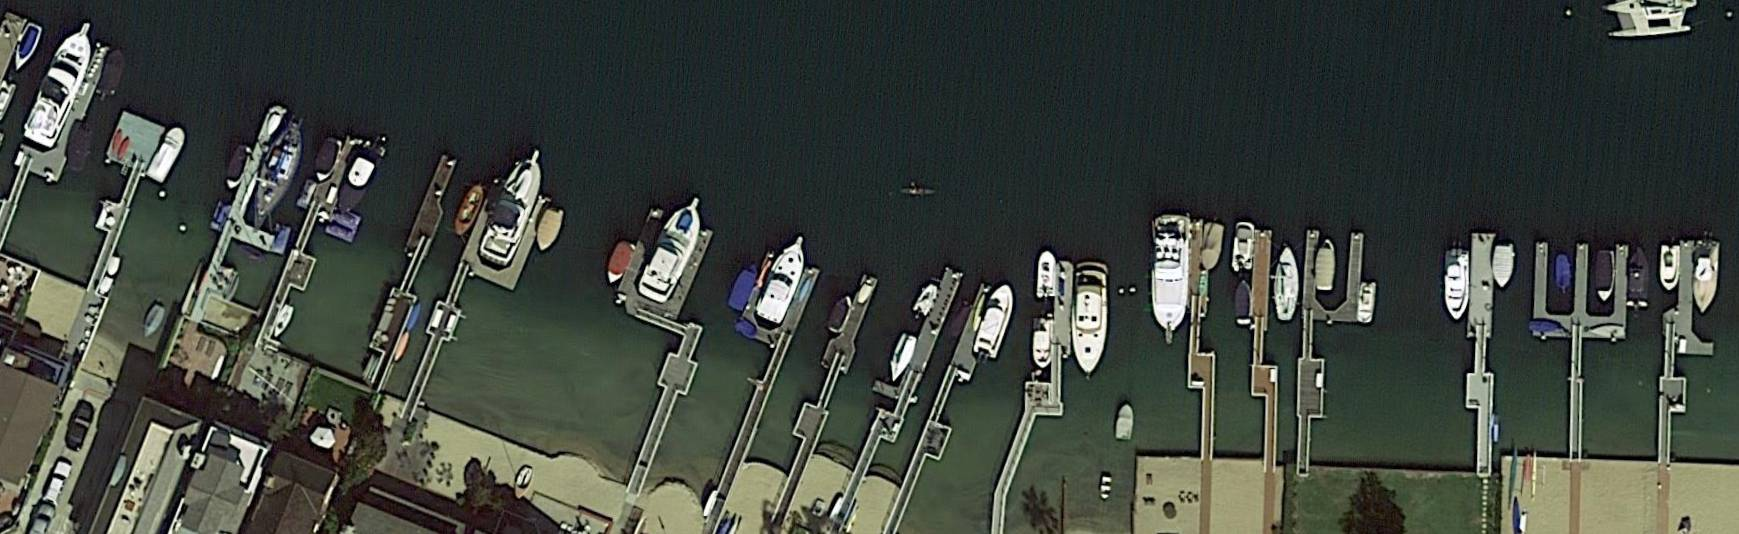harbor: (553, 208, 748, 482), (820, 258, 965, 520), (677, 252, 821, 504), (411, 177, 555, 413), (894, 285, 1013, 517), (767, 271, 887, 498), (263, 133, 387, 341), (357, 157, 474, 375), (200, 105, 321, 311), (2, 32, 112, 216), (1530, 244, 1629, 443), (62, 110, 170, 290), (1296, 231, 1365, 439), (1656, 242, 1721, 452), (1176, 223, 1224, 455), (1244, 233, 1292, 459), (1026, 263, 1075, 422), (1465, 235, 1499, 442)
ship: (21, 16, 105, 150), (478, 144, 555, 269), (635, 192, 714, 305), (243, 119, 307, 236), (754, 233, 814, 326), (1150, 215, 1191, 349), (333, 138, 388, 219), (1075, 263, 1109, 376), (972, 282, 1018, 361), (146, 124, 191, 185), (450, 180, 489, 240), (1272, 248, 1299, 323), (1691, 240, 1719, 312), (9, 21, 45, 74), (885, 331, 919, 385), (1445, 249, 1471, 322), (728, 262, 761, 313), (601, 239, 635, 288), (222, 144, 254, 195), (311, 137, 343, 188), (533, 206, 566, 256), (1626, 249, 1650, 308), (1313, 240, 1336, 292), (1038, 249, 1059, 298), (1660, 246, 1681, 294), (1597, 252, 1617, 302), (1034, 319, 1054, 369), (1234, 281, 1254, 328), (1113, 402, 1137, 442), (1492, 246, 1514, 288)
small vehicle: (39, 459, 78, 508), (62, 403, 99, 455)
